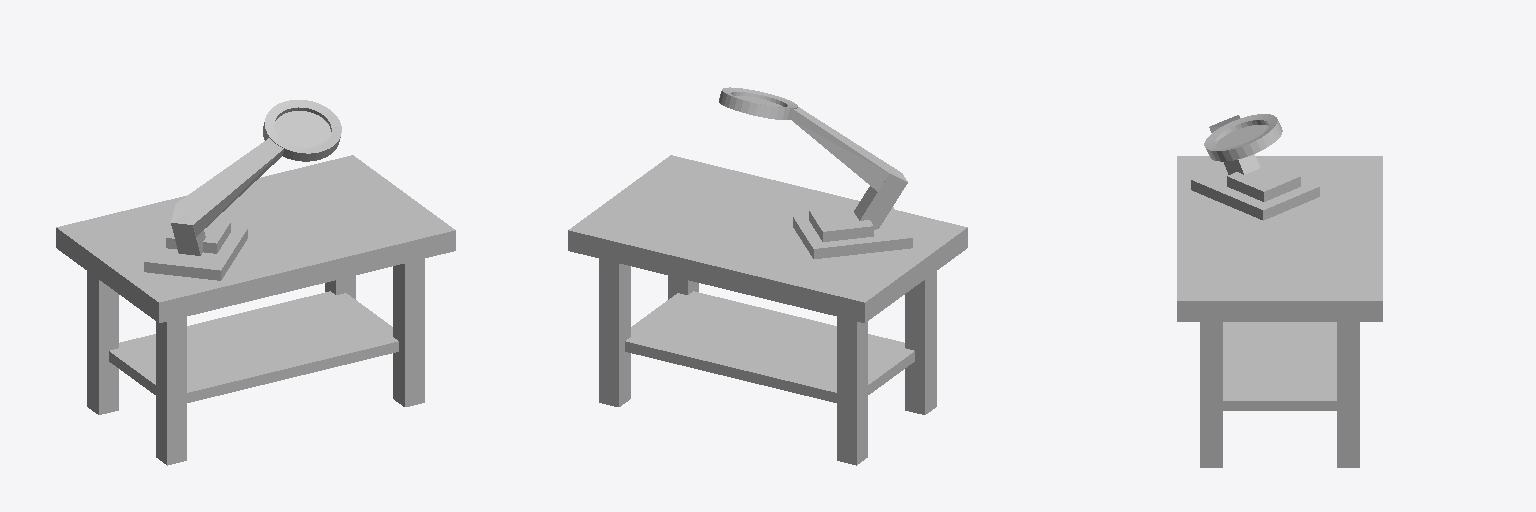
The model's file is translation_table.obj.
3 renders of one model, left to right at view 1: azimuth 30°, elevation 25°; view 2: azimuth 150°, elevation 25°; view 3: azimuth 270°, elevation 25°, orthographic.
Visible parts, largest first — view 1: Circle_Circle.002; view 2: Circle_Circle.002; view 3: Circle_Circle.002.
Part boxes in pixels (left/top/right/bottom): Circle_Circle.002: left=56, top=100, right=455, bottom=465; Circle_Circle.002: left=568, top=87, right=967, bottom=465; Circle_Circle.002: left=1177, top=114, right=1382, bottom=467.
Bounding box in the file's own units: 0.999 × 0.9576 × 0.5994.